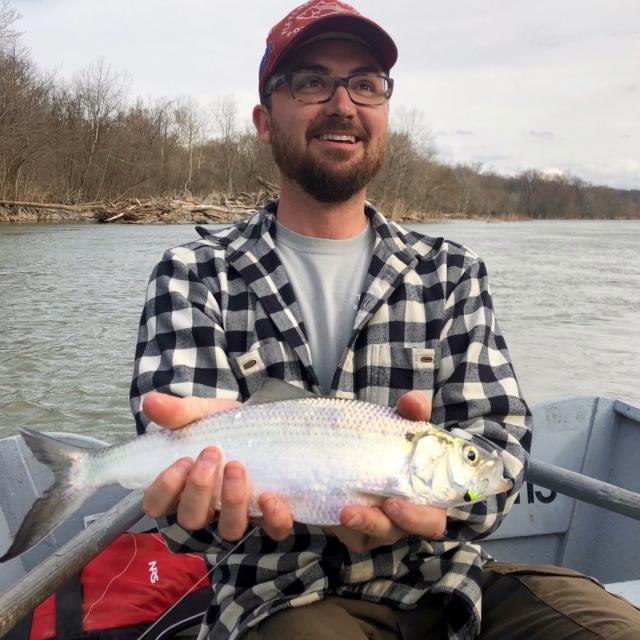Shad - American: (0, 379, 511, 561)
